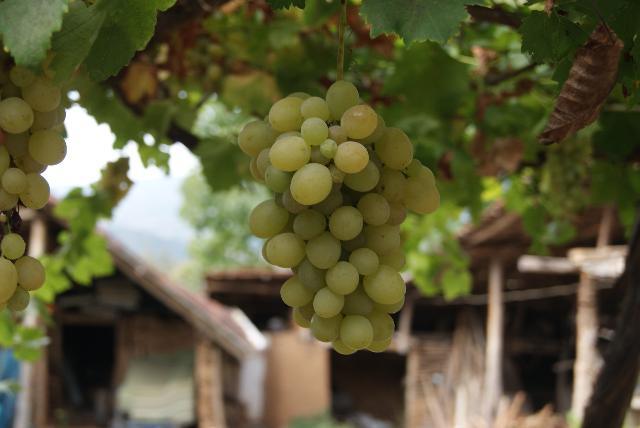grapes: (239, 79, 440, 354), (0, 65, 66, 314)
